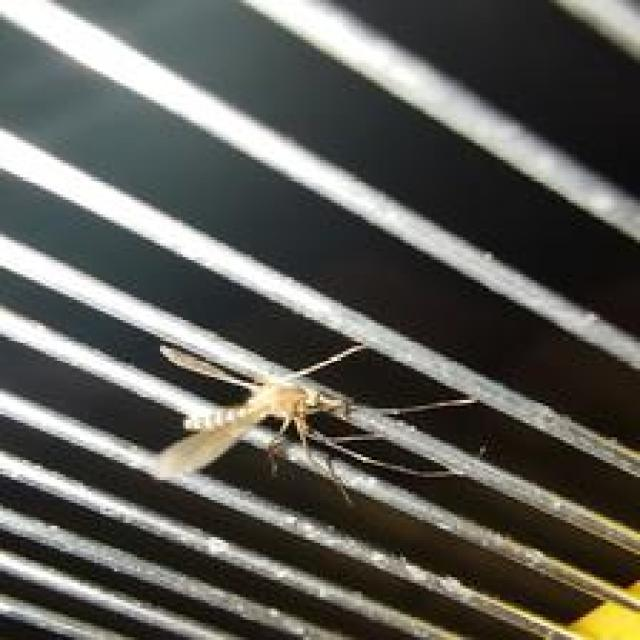Culex: (149, 339, 480, 507)
